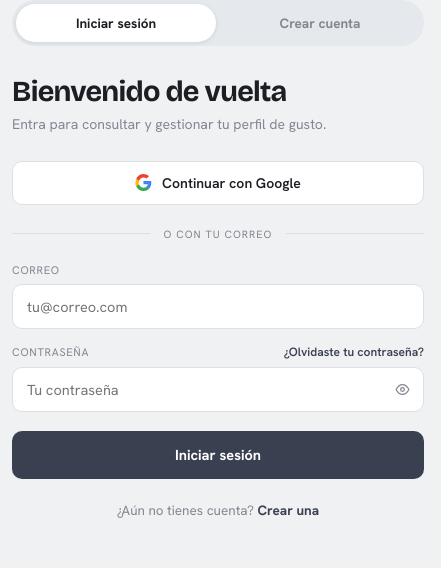
Scenario: AuthForm › rechaza contraseñas de menos de 8 caracteres
Type "a@b.com" into the field with placeholder "tu@correo.com" at (218, 306), box x1=12 y1=284 x2=424 y2=329
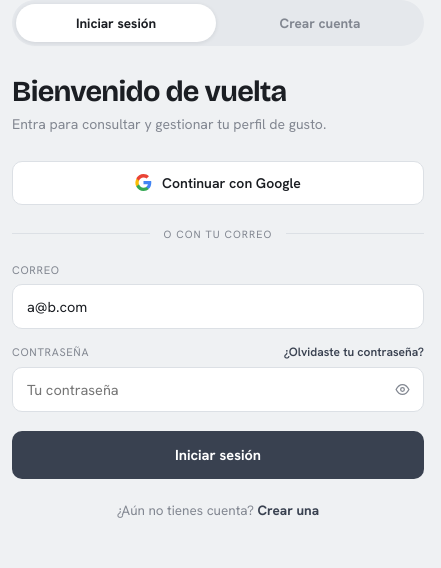
Type "123" into the password field with placeholder "tu contraseña" at (218, 389), box x1=12 y1=367 x2=424 y2=412
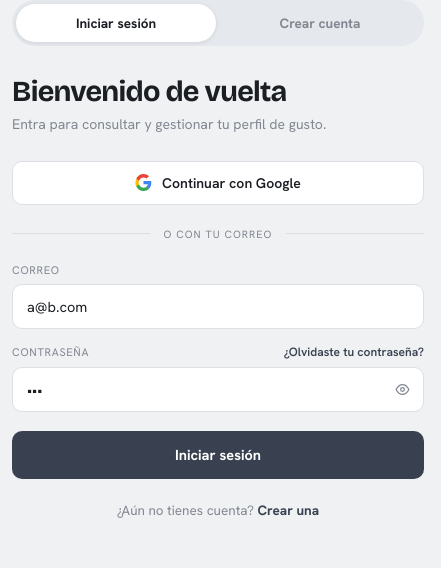
Submit the form, box x1=12 y1=263 x2=424 y2=479
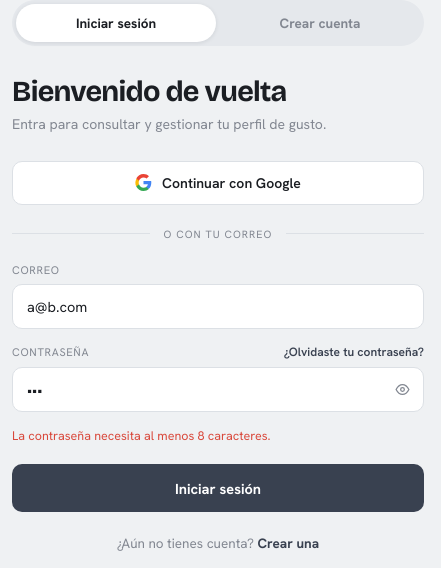
Result: the text "La contraseña necesita al menos 8 caracteres." is shown at x1=12 y1=427 x2=270 y2=444
